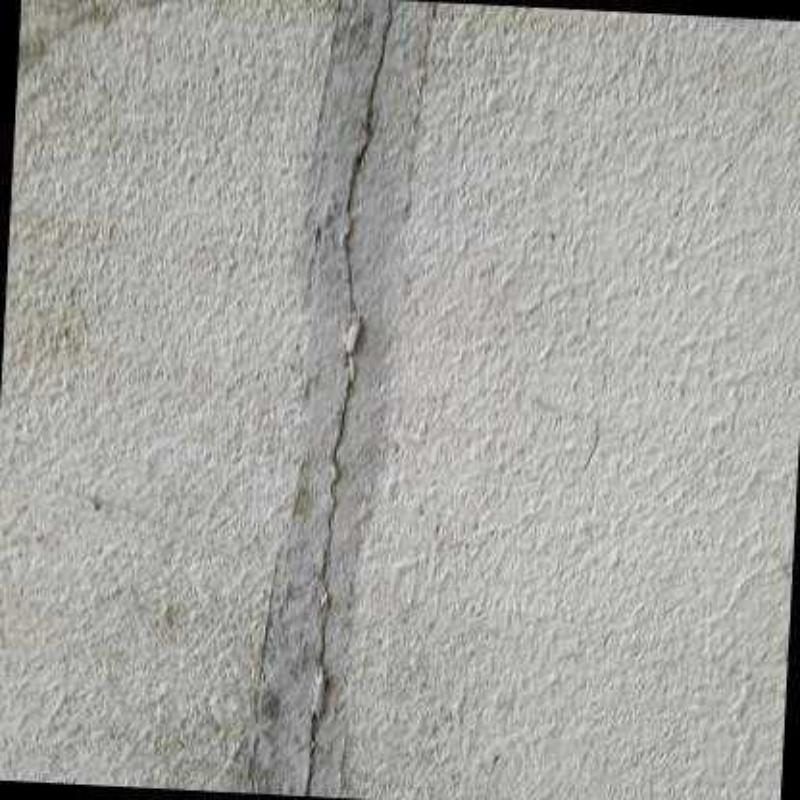crack: (306, 0, 394, 796)
